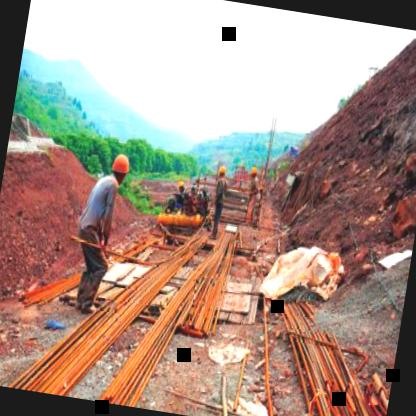helmet: (105, 150, 132, 190), (212, 160, 228, 184), (244, 163, 260, 184), (172, 177, 186, 196)
